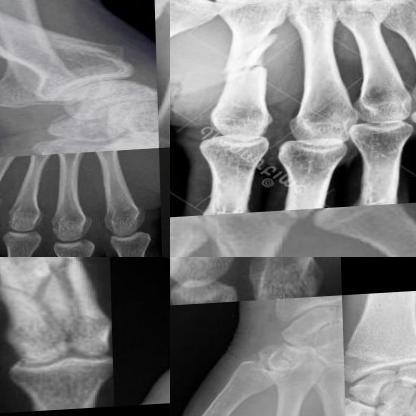fracture: (177, 222, 311, 256), (210, 50, 273, 89)
